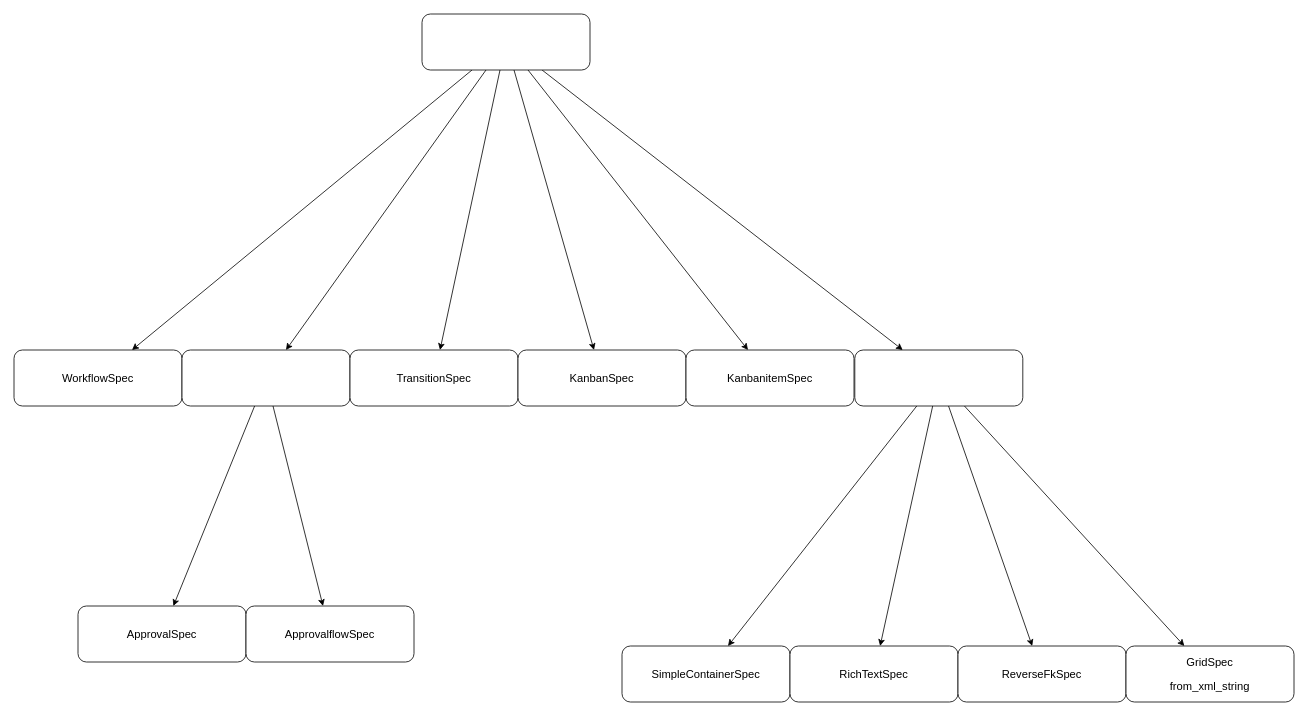
This 1308x718 diagram has some shape labels left out. Each missing label, with the box of its shape:
ElementSpec: (421, 13, 590, 70)
NodeSpec: (854, 349, 1023, 406)
UserTaskSpec: (181, 349, 350, 406)
